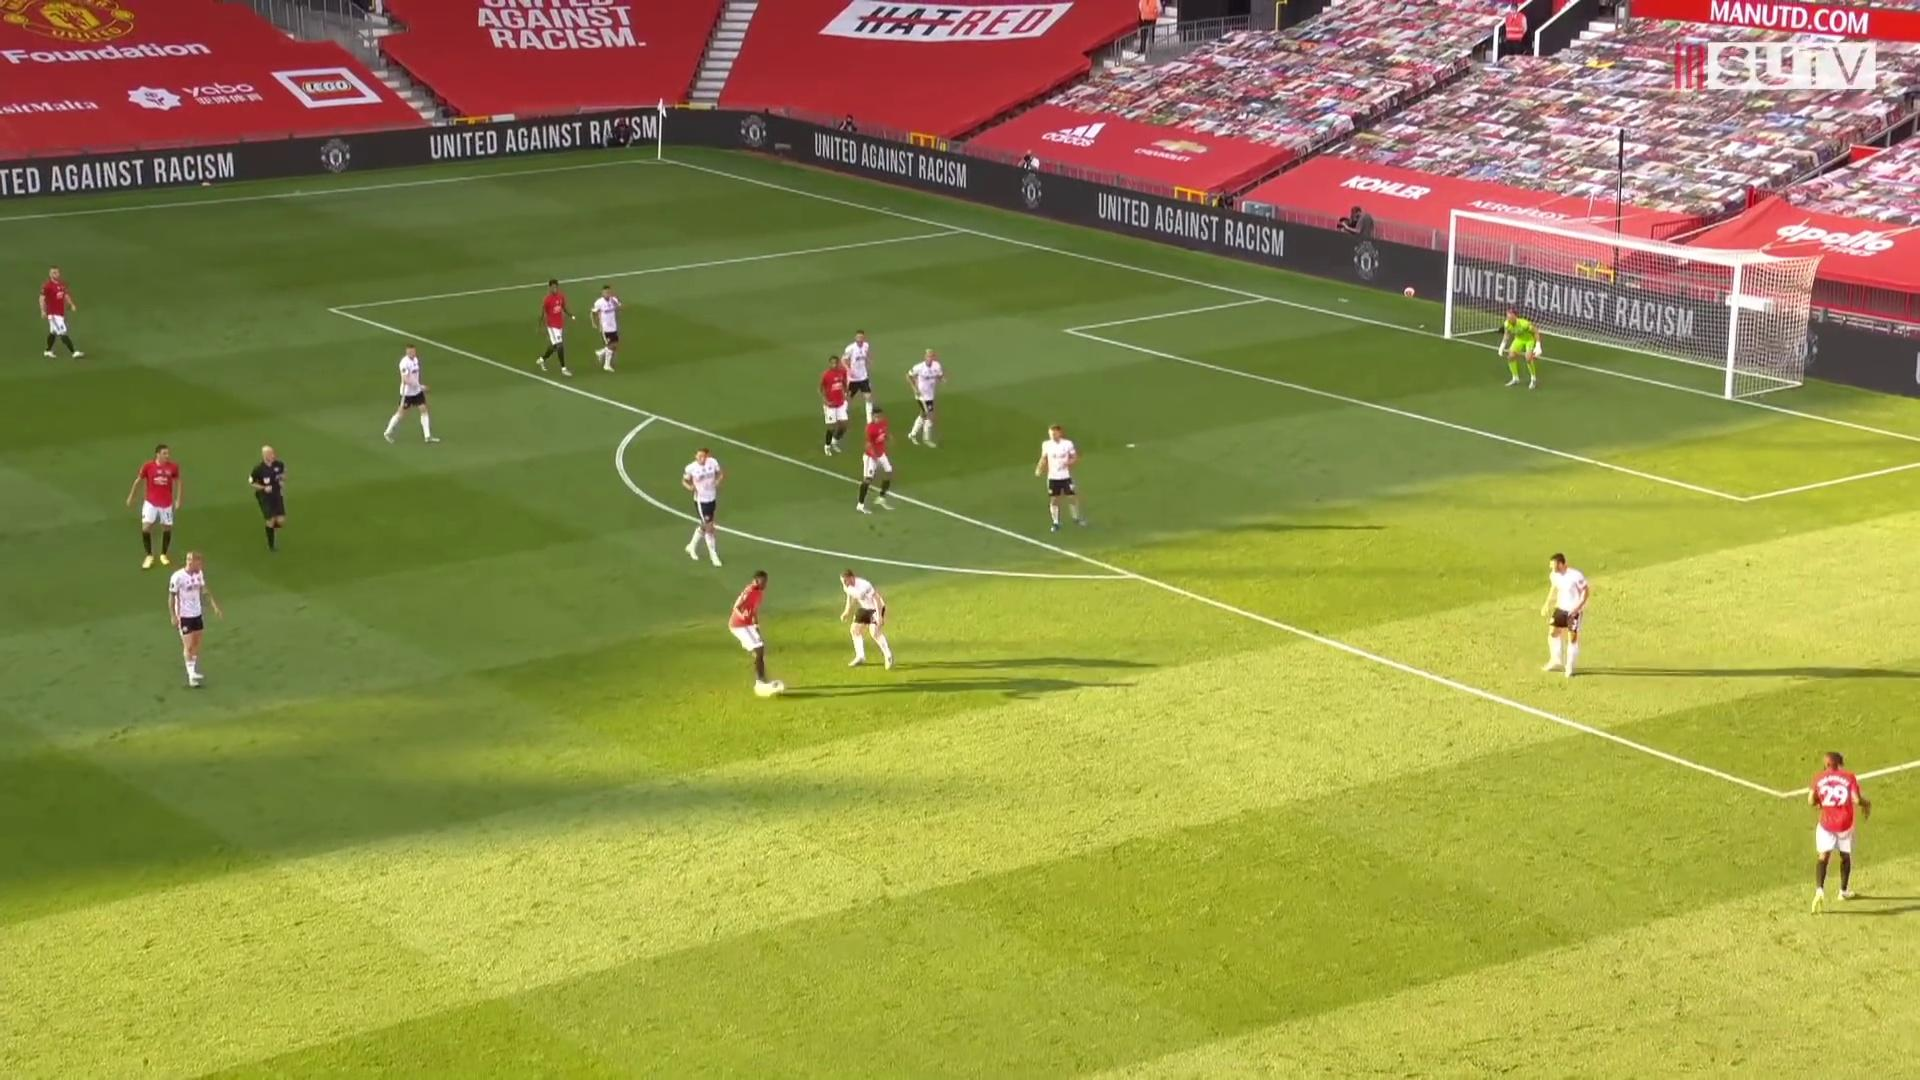ball: (765, 676, 789, 700), (1402, 283, 1417, 304)
goalkeeper: (1493, 304, 1548, 396)
player: (1803, 746, 1876, 919), (165, 546, 225, 694), (122, 440, 186, 571), (1539, 550, 1596, 684), (836, 566, 904, 676), (1031, 419, 1094, 537), (380, 339, 444, 447), (679, 443, 729, 571), (725, 566, 773, 699), (845, 404, 900, 520), (900, 344, 954, 455), (36, 263, 90, 366), (834, 323, 884, 434), (534, 276, 580, 379), (819, 349, 853, 458), (589, 282, 627, 375)
referee: (244, 442, 296, 556)
